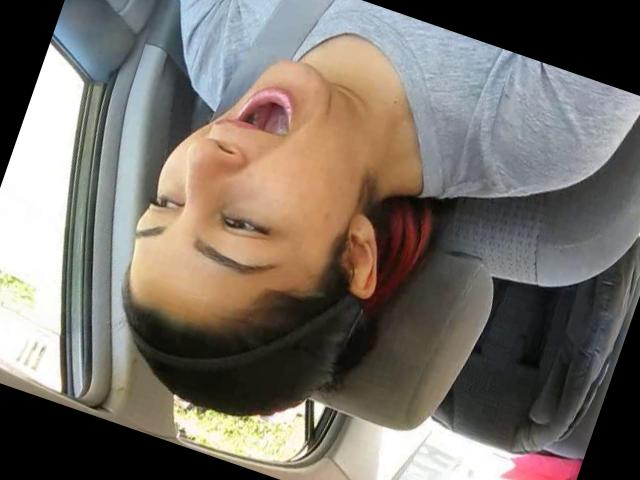eye_open: (210, 201, 280, 250), (146, 186, 184, 222)
face: (122, 24, 376, 310)
mouth_open: (220, 72, 304, 152)
